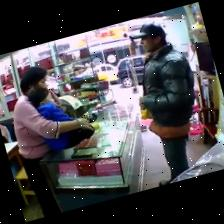person: (13, 67, 88, 216), (129, 23, 194, 185), (28, 88, 74, 122)
